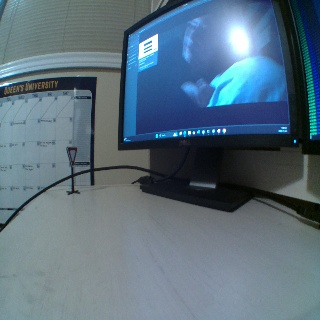sign_yield: (64, 145, 78, 165)
